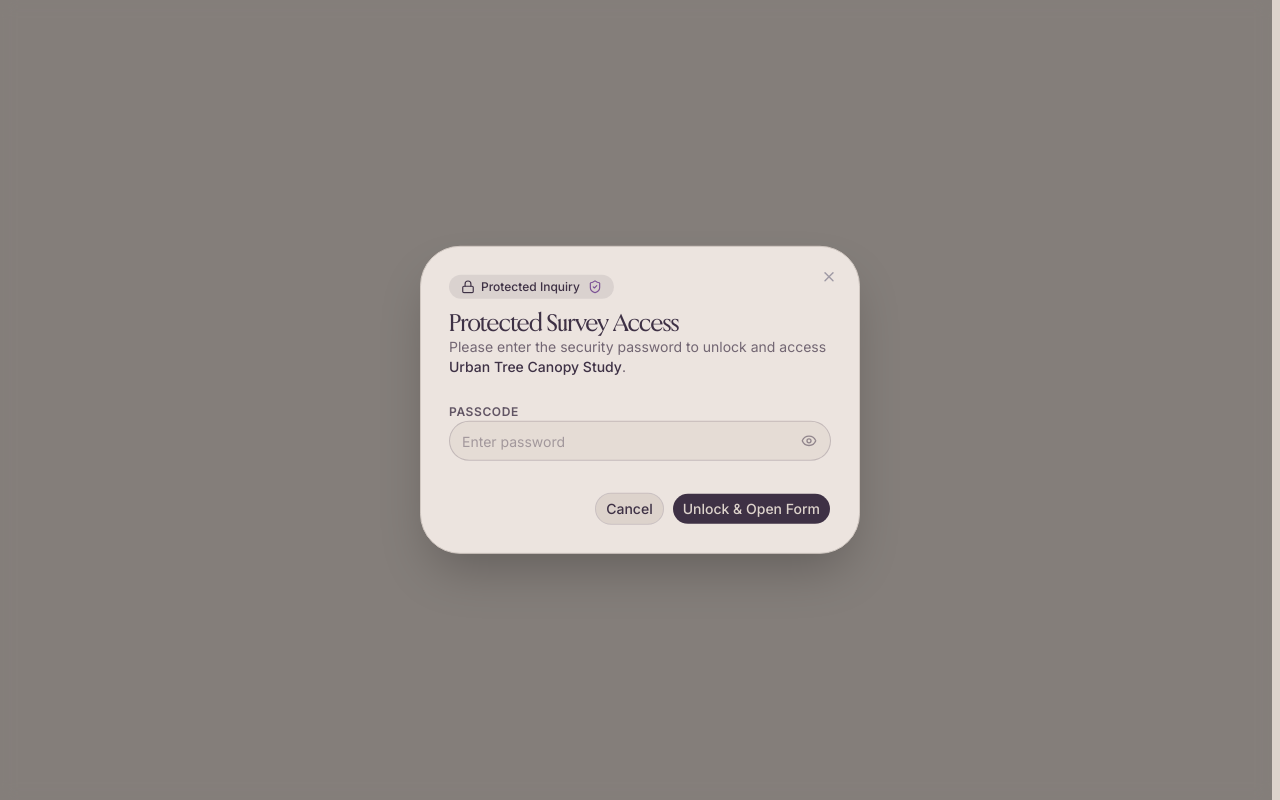
Test case: PasswordFormDialog › displays error message and sets aria-invalid when incorrect password submitted
This screenshot has width=1280, height=800.
Type "wrongpassword" into the password field with placeholder "Enter password" at [640, 441], box 449,421 -> 831,461
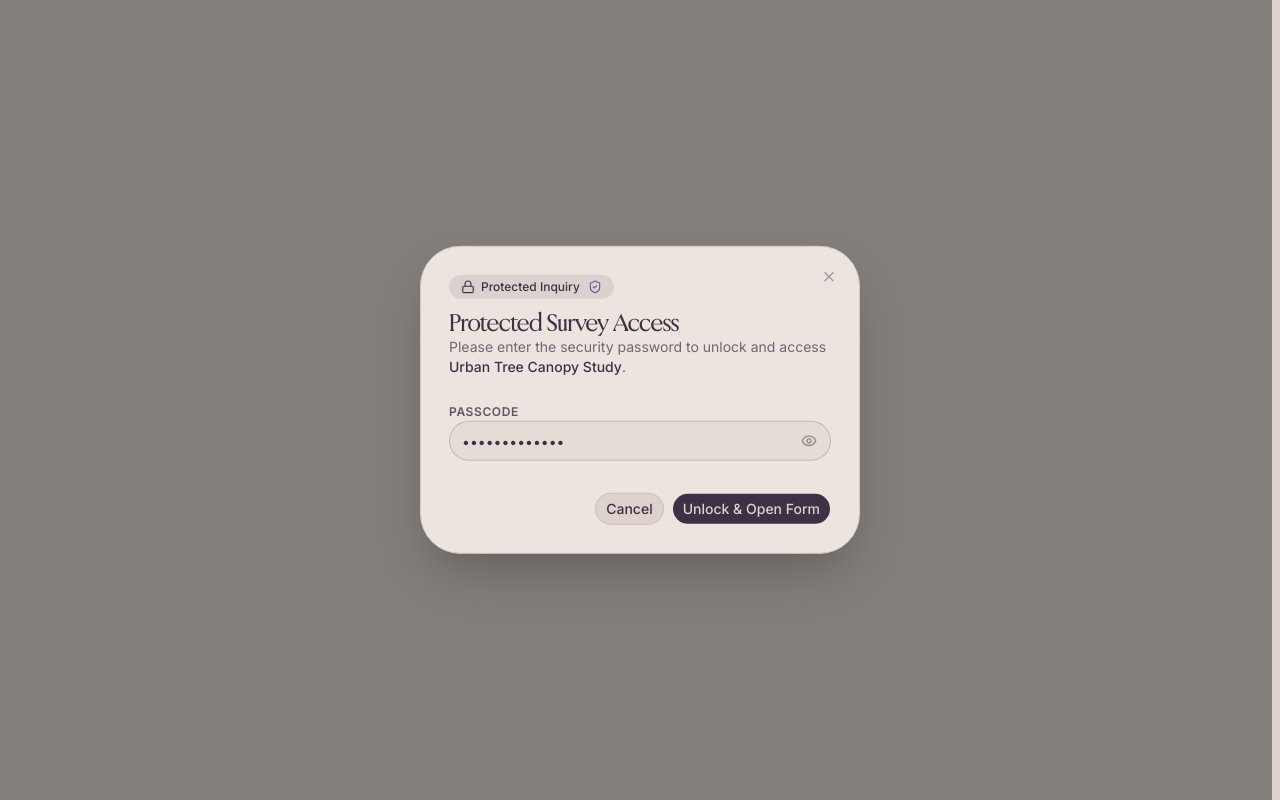
Click the button "Unlock & Open Form" at [751, 509], box 672,493 -> 831,525
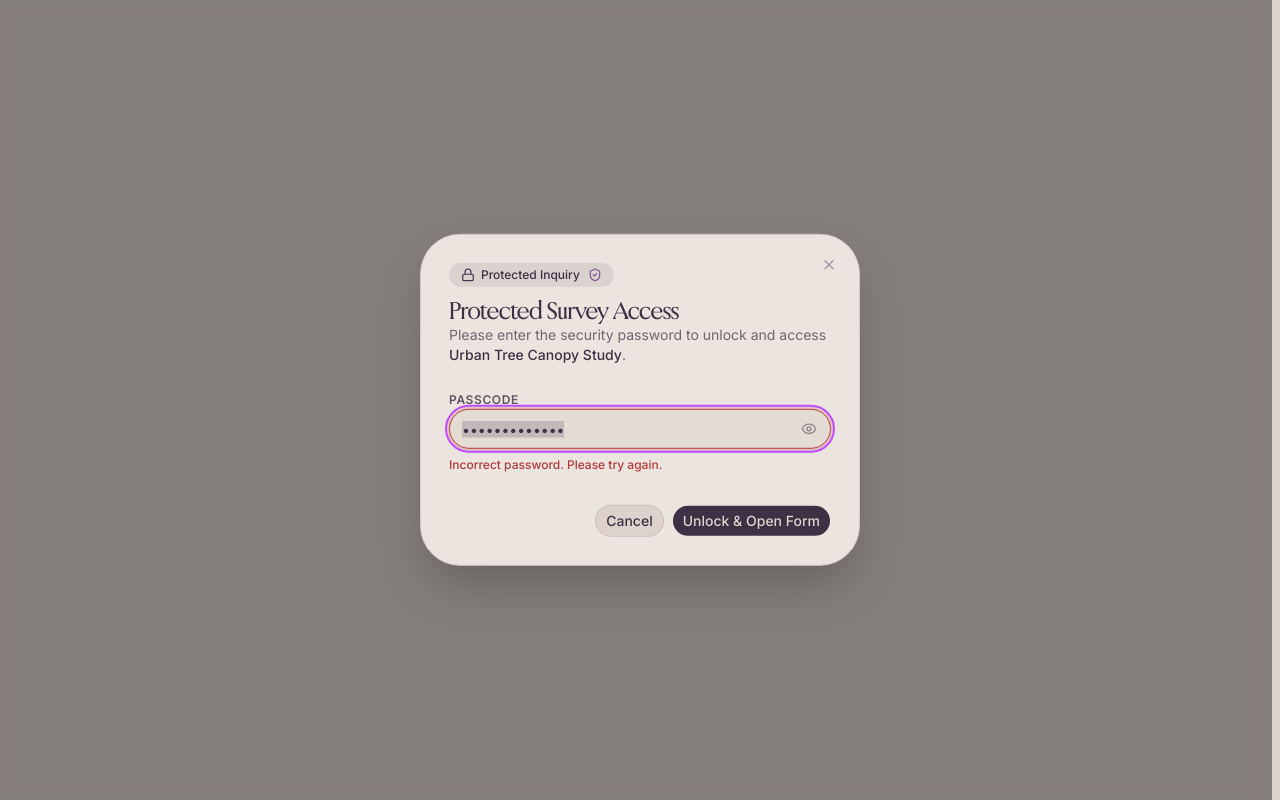
Result: the text "Incorrect password. Please try again." is shown at 449,457 -> 662,472
